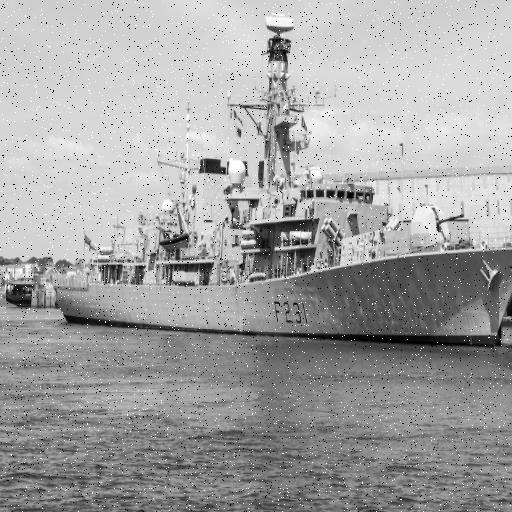Fragata: (48, 1, 512, 354)
